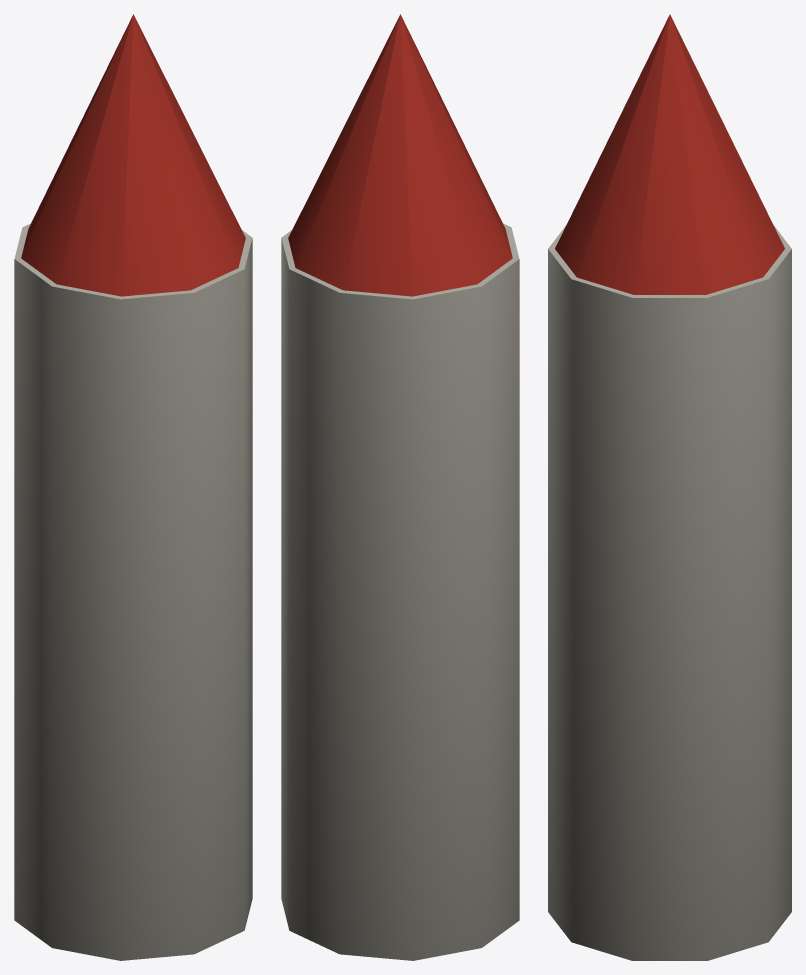
File: m_uplink_1c0f398f.glb
The picture shows the model from 3 angles, left to right: view 1: azimuth 30°, elevation 25°; view 2: azimuth 150°, elevation 25°; view 3: azimuth 270°, elevation 25°; orthographic projection.
Parts seen in each view (by area): view 1: mesh; view 2: mesh; view 3: mesh.
Part boxes in pixels (left/top/right/bottom): mesh: left=14, top=14, right=252, bottom=960; mesh: left=281, top=14, right=519, bottom=960; mesh: left=548, top=14, right=791, bottom=960.
Bounding box in the file's own units: 7.61 × 32.5 × 8.
